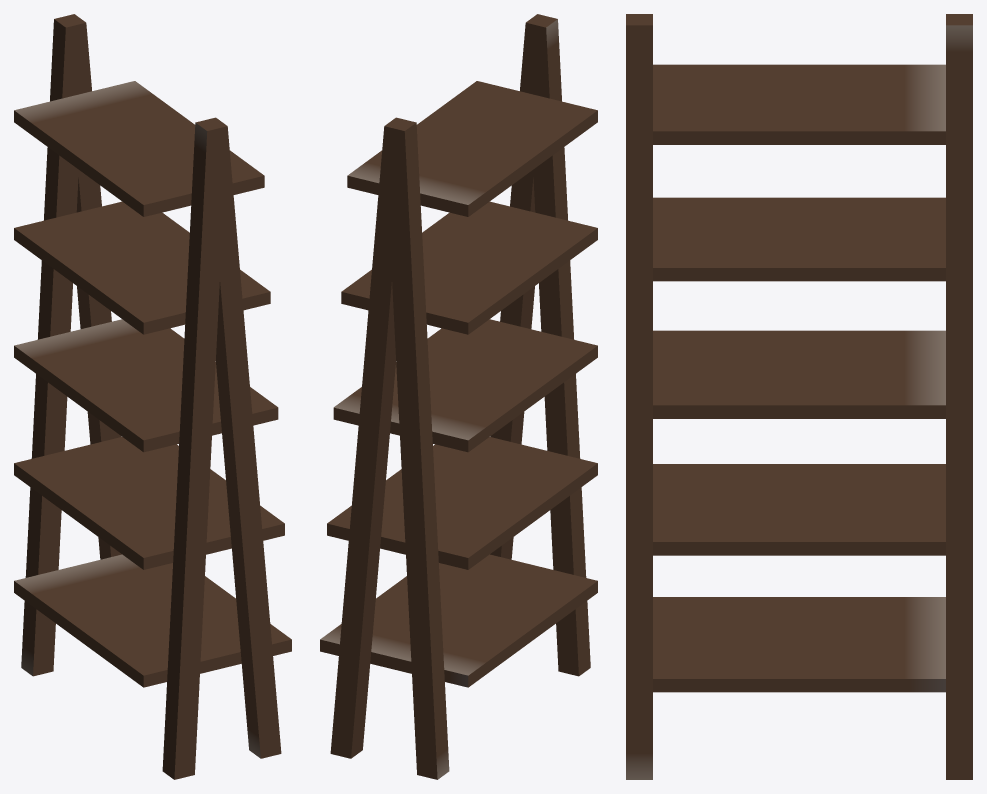
The model's file is regal.fbx.
3 renders of one model, left to right at view 1: azimuth 30°, elevation 25°; view 2: azimuth 150°, elevation 25°; view 3: azimuth 270°, elevation 25°, orthographic. The views are drawn at different scales.
Visible parts, largest first — view 1: Object; view 2: Object; view 3: Object.
Part boxes in pixels (x1,y1,x2,y2): Object: [14, 14, 291, 779]; Object: [320, 14, 597, 779]; Object: [626, 14, 972, 779].
Bounding box in the file's own units: 193 × 108 × 445.
